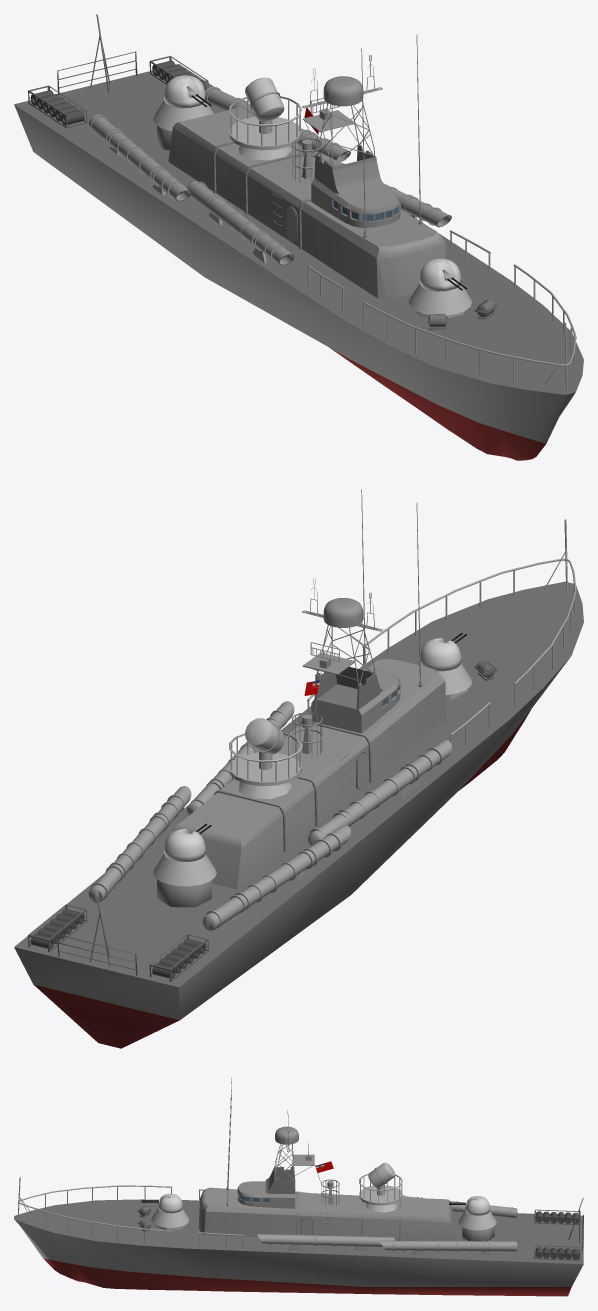
Rendered from hucum_botu.glb.
The picture shows the model from 3 angles, top to bottom: view 1: azimuth 30°, elevation 25°; view 2: azimuth 150°, elevation 25°; view 3: azimuth 270°, elevation 25°; orthographic projection. The views are drawn at different scales.
Parts seen in each view (by area): view 1: Shershen_body, AK230_front_turret, AK230_back_turret; view 2: Shershen_body, AK230_back_turret, AK230_front_turret; view 3: Shershen_body, AK230_front_turret, AK230_back_turret.
Part boxes in pixels (x1,y1,x2,y2): Shershen_body: (14,14,583,460); AK230_front_turret: (419,258,461,291); AK230_back_turret: (164,75,205,108); Shershen_body: (14,489,583,1048); AK230_back_turret: (164,828,205,861); AK230_front_turret: (420,638,461,671); Shershen_body: (14,1077,583,1296); AK230_front_turret: (158,1193,182,1213); AK230_back_turret: (465,1196,489,1215).
Size of the model in its own units: 1.89 by 3.58 by 8.92.
2 materials, 2 textured.
